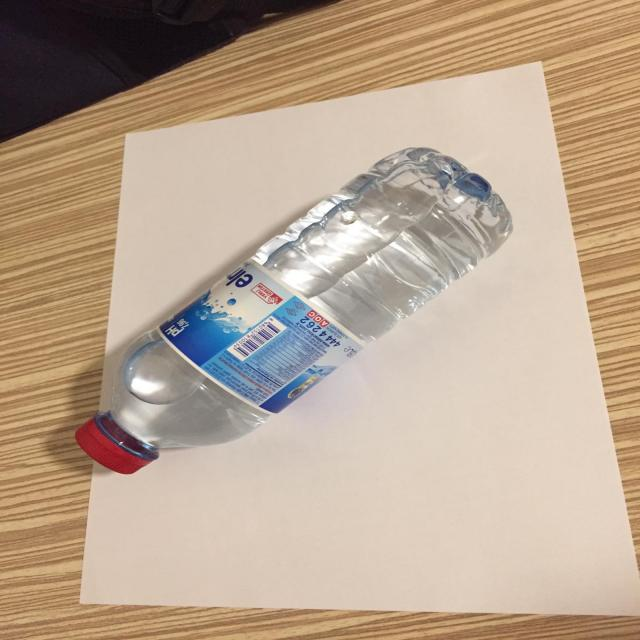bottle: (60, 212, 432, 480)
